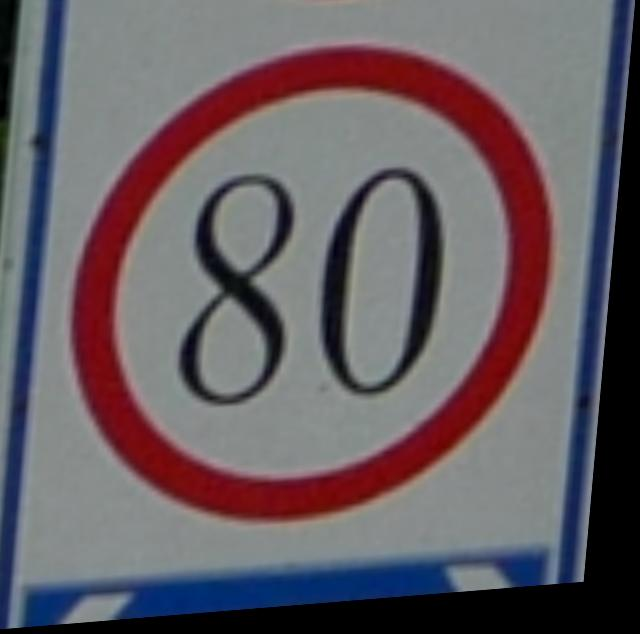limit80: (51, 21, 591, 559)
